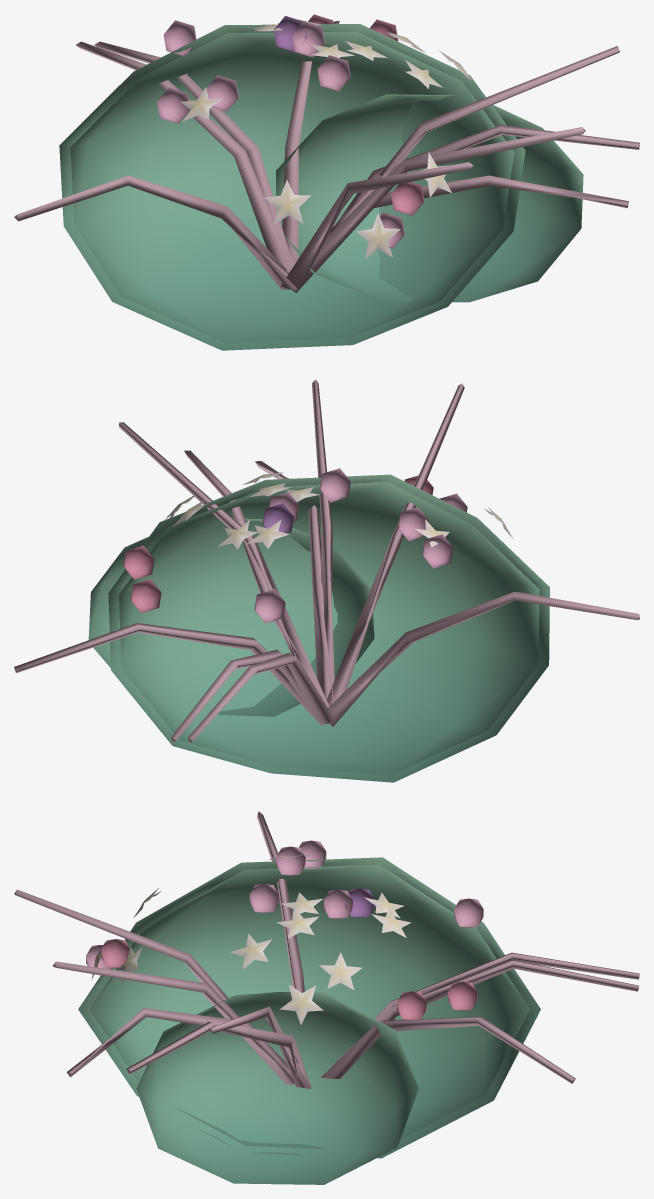
File: bramble.glb
The picture shows the model from 3 angles, top to bottom: view 1: azimuth 30°, elevation 25°; view 2: azimuth 150°, elevation 25°; view 3: azimuth 270°, elevation 25°; orthographic projection. The views are drawn at different scales.
Visible parts, largest first — view 1: near, far; view 2: near, far; view 3: near, far.
Boxes of the visible parts, <box> form: near: <box>14,14,639,342</box>; far: <box>59,19,619,350</box>; near: <box>14,450,639,775</box>; far: <box>108,379,549,782</box>; near: <box>66,811,639,1184</box>; far: <box>14,846,540,1158</box>.
Bounding box in the file's own units: 1.58 × 0.7223 × 1.62.
